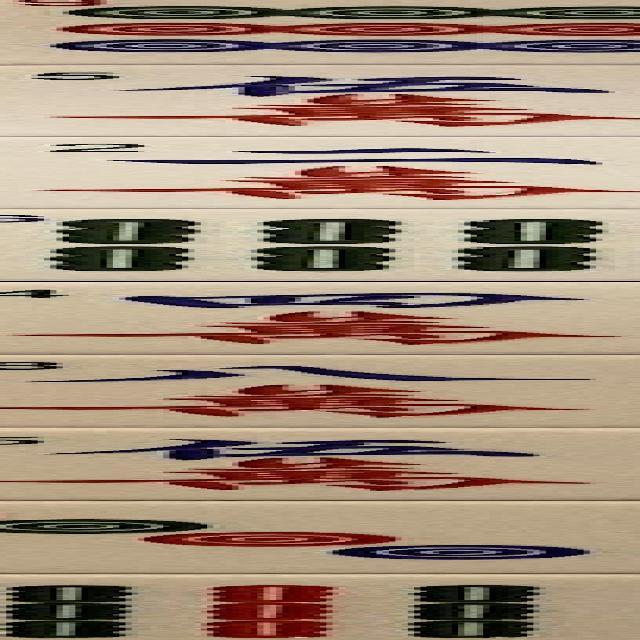sb6: (0, 209, 640, 277)
sb9: (0, 574, 640, 640)
sc2: (0, 138, 640, 206)
sc4: (0, 282, 640, 352)
sc5: (0, 427, 640, 499), (0, 64, 640, 135)
sc8: (0, 354, 640, 425)
sd3: (0, 500, 640, 569)
sd9: (0, 0, 640, 61)
